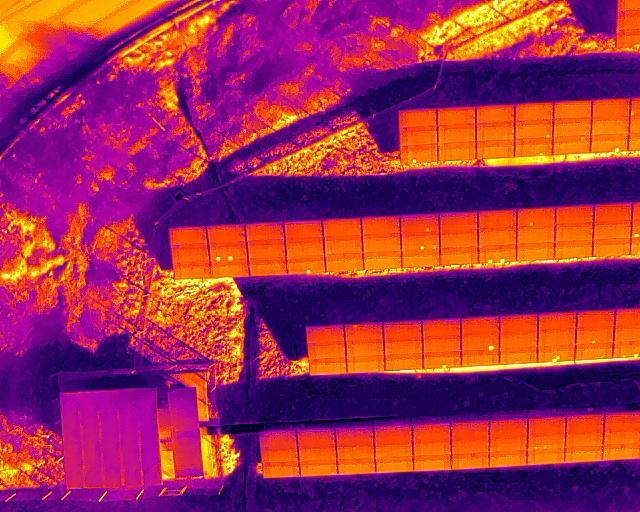Cell: (517, 208, 555, 228), (515, 119, 552, 138), (400, 214, 439, 232), (515, 138, 553, 156), (401, 144, 437, 163), (287, 257, 325, 274), (461, 334, 499, 350), (423, 351, 461, 367), (300, 460, 338, 476), (553, 136, 590, 152), (591, 134, 627, 150), (499, 348, 537, 363), (576, 330, 614, 344)
Cell-Multi: (401, 232, 441, 251), (479, 245, 517, 264), (208, 244, 247, 262), (537, 344, 574, 361), (527, 434, 564, 449), (614, 342, 640, 357)
No-Anomaly: (423, 318, 460, 340), (246, 223, 285, 243), (437, 106, 477, 125), (413, 423, 451, 443), (171, 244, 210, 263), (400, 125, 437, 145), (553, 117, 591, 136), (477, 122, 514, 141), (285, 223, 324, 241), (168, 226, 207, 244), (478, 227, 517, 245), (440, 247, 479, 265), (438, 124, 477, 142), (207, 227, 245, 245), (517, 242, 555, 260), (440, 229, 478, 247), (325, 253, 363, 271), (577, 311, 615, 329), (555, 240, 593, 258), (362, 234, 400, 252), (556, 223, 594, 241), (515, 101, 553, 119), (477, 104, 515, 122), (374, 426, 412, 444), (490, 449, 528, 467), (566, 414, 604, 432), (489, 420, 527, 438), (451, 421, 489, 439), (594, 221, 631, 239), (324, 220, 361, 238), (594, 203, 631, 221), (452, 452, 489, 470), (259, 431, 296, 449), (383, 322, 422, 339), (307, 341, 346, 358), (401, 250, 440, 267), (439, 212, 478, 229), (461, 317, 500, 334), (335, 428, 374, 445), (517, 228, 555, 245), (538, 312, 576, 329), (500, 314, 538, 331), (361, 217, 399, 234), (286, 241, 324, 258), (248, 242, 286, 259), (553, 101, 591, 118), (478, 210, 516, 227), (399, 108, 437, 125), (555, 206, 593, 223), (477, 141, 515, 158), (297, 429, 335, 446), (565, 446, 603, 463), (528, 418, 566, 435), (345, 339, 385, 355), (345, 324, 385, 340), (605, 414, 640, 432), (364, 251, 401, 268), (594, 238, 631, 255), (500, 331, 537, 348), (592, 118, 629, 135), (263, 461, 300, 478), (592, 100, 629, 117), (376, 456, 413, 473), (305, 326, 344, 342), (250, 259, 286, 276), (538, 329, 576, 345), (347, 355, 385, 371), (438, 142, 476, 158), (298, 445, 336, 461), (414, 455, 451, 471), (338, 458, 375, 474), (528, 449, 565, 465), (211, 261, 250, 276), (384, 339, 423, 354), (565, 432, 604, 447), (385, 353, 423, 368), (324, 238, 362, 253), (576, 344, 614, 359), (173, 263, 211, 278), (309, 359, 346, 374), (461, 350, 499, 364), (337, 444, 375, 458), (262, 448, 298, 462), (603, 445, 639, 459), (489, 437, 527, 450), (375, 443, 413, 456), (451, 439, 489, 452), (604, 431, 639, 445), (423, 339, 460, 352), (615, 310, 639, 329), (413, 443, 451, 455), (614, 328, 639, 342)
